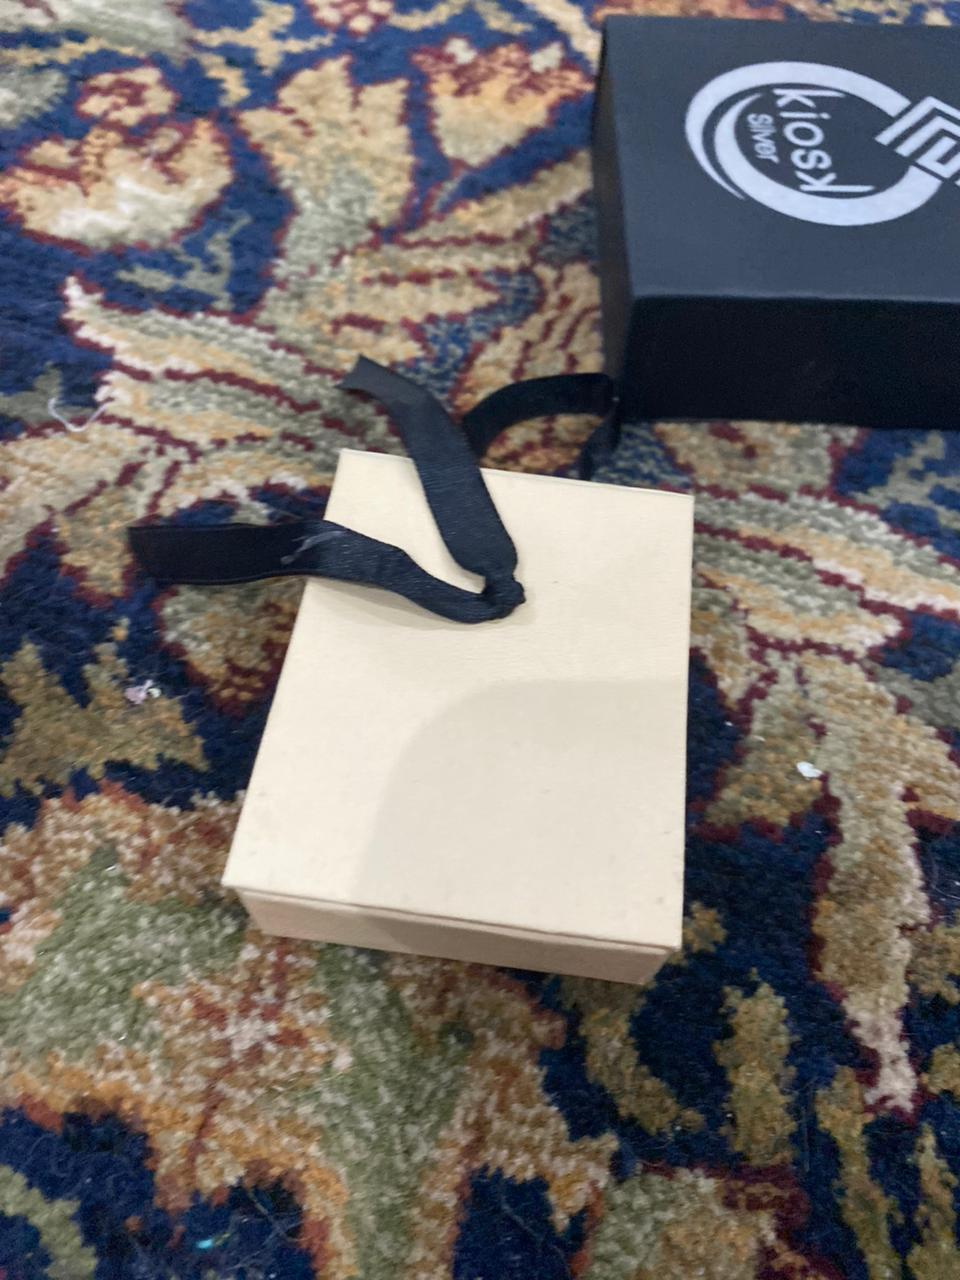Red Box: (578, 11, 960, 430)
Yellow Box: (209, 442, 708, 997)
